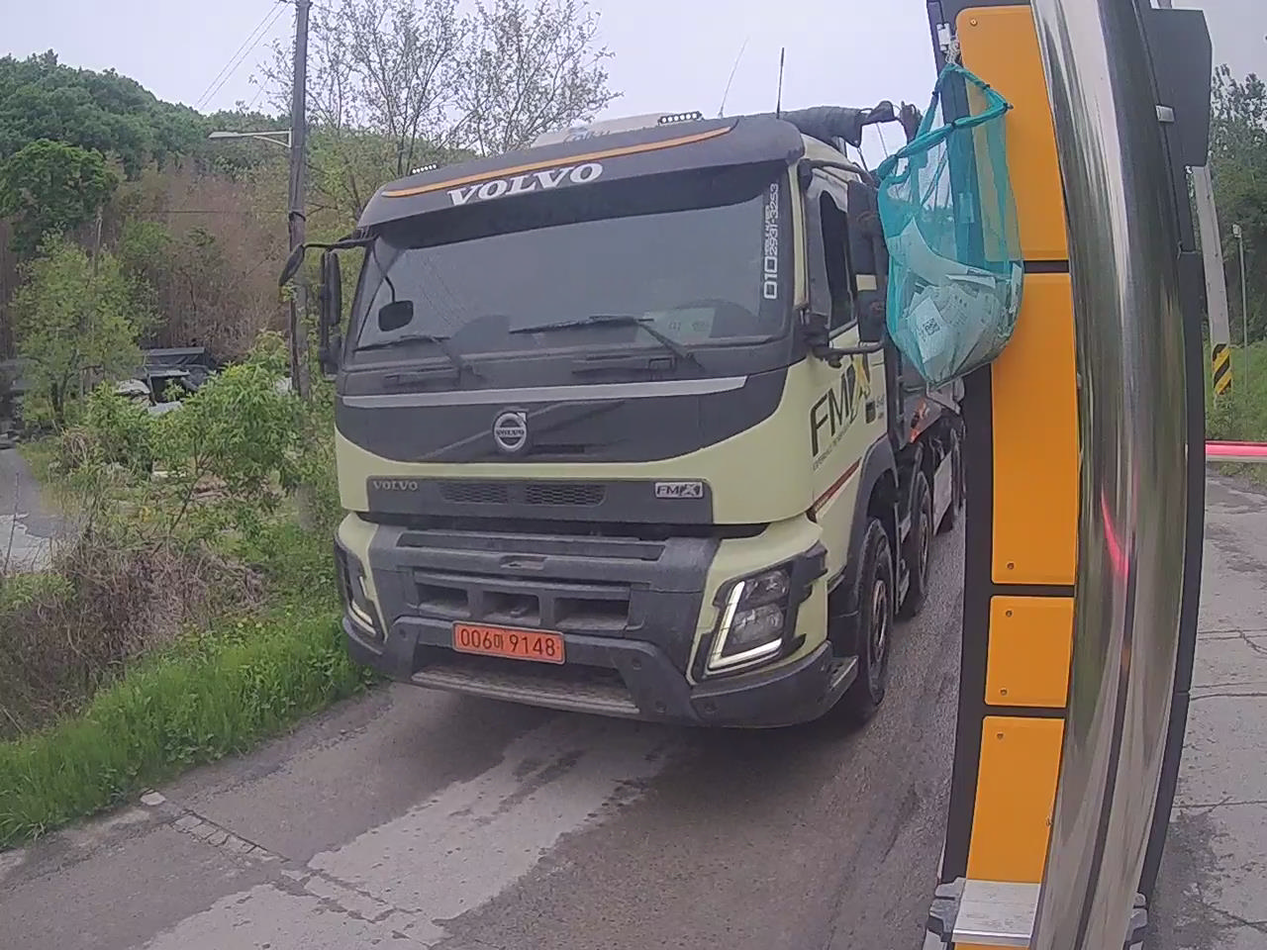license_plate: (453, 623, 562, 662)
truck: (282, 104, 963, 725)
